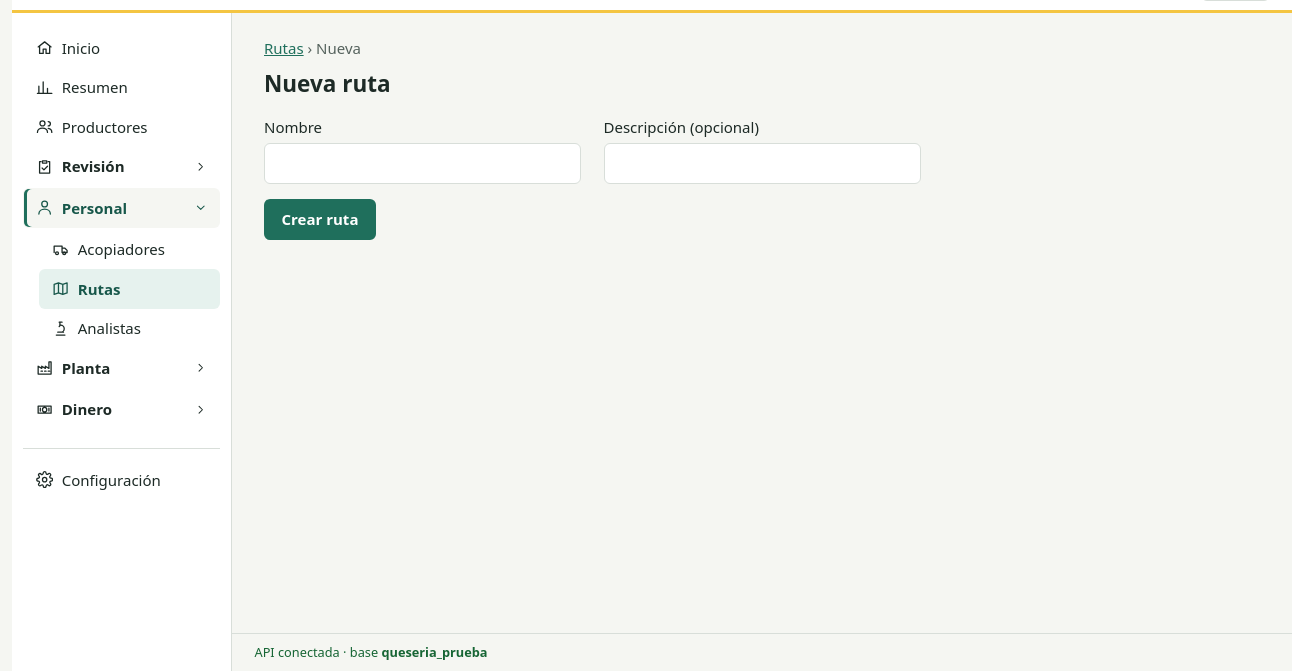
Test case: nueva ruta › 409 de nombre repetido: aviso arriba y no navega
The width and height of the screenshot is (1292, 671).
Type "Ruta 1 - Huata Centro" into the field labelled "Nombre" at (422, 163), box 264,143 -> 581,184
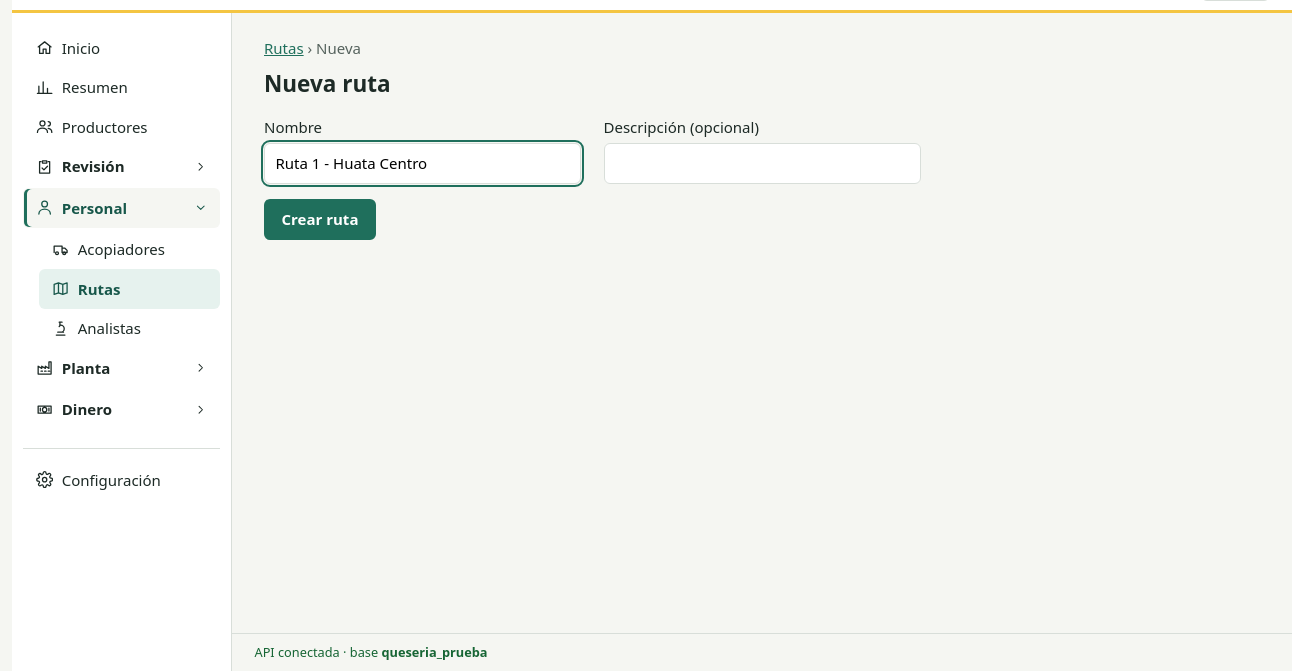
Click the button "Crear ruta" at (320, 219), box 264,199 -> 376,240
(page scrolled)
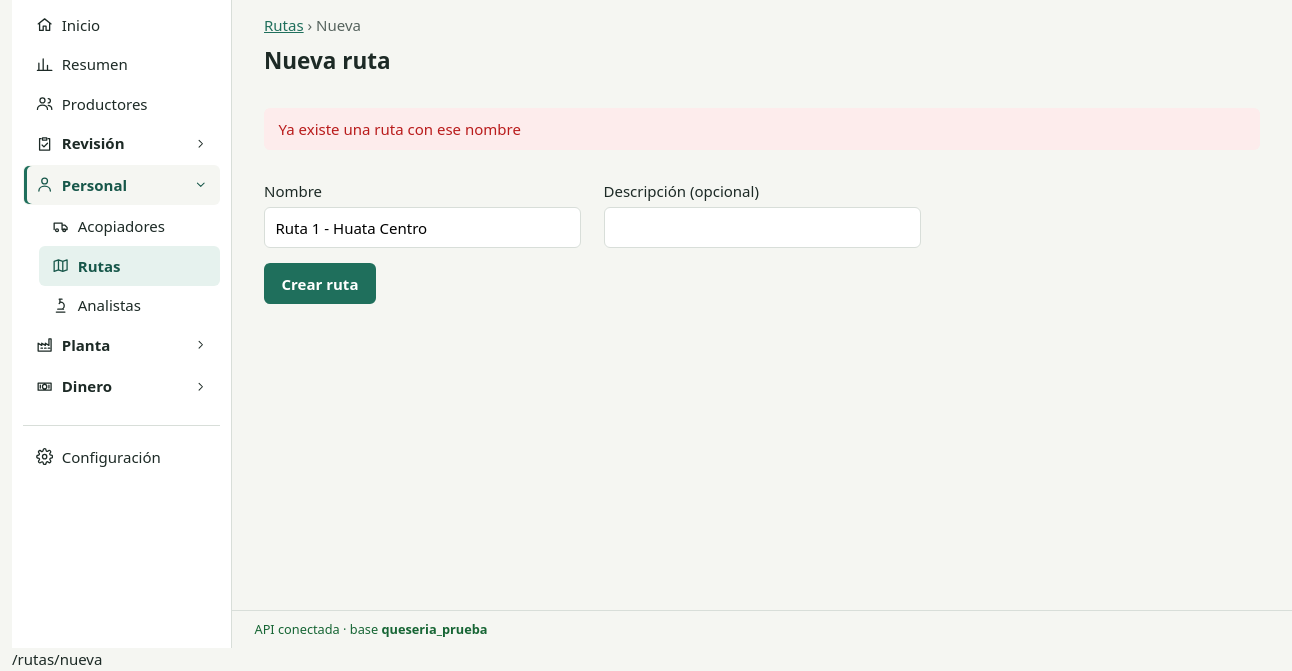
Expected: the text with test id "ubicacion" reads "/rutas/nueva", 12,649 -> 102,669
Expected: the message reads "Ya existe una ruta con ese nombre", 278,119 -> 521,139
